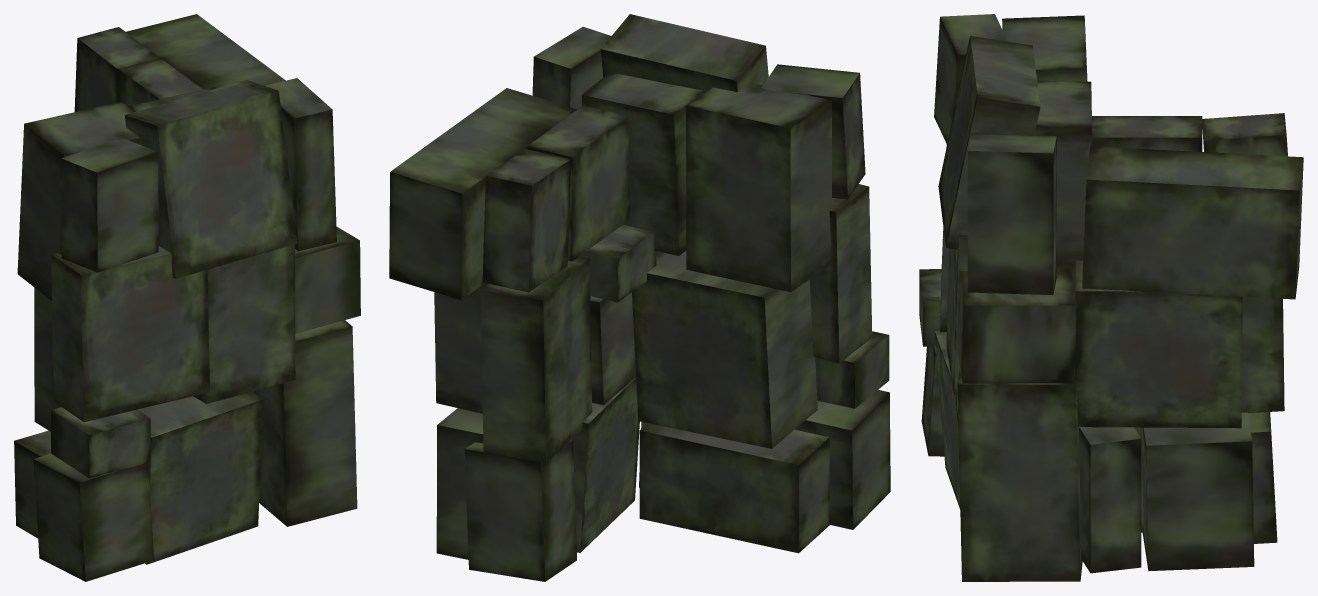
Rendered from ruin-corner-01.fbx.
3 views of the same model, side by side, from view 1: azimuth 30°, elevation 25°; view 2: azimuth 150°, elevation 25°; view 3: azimuth 270°, elevation 25° (orthographic). The views are drawn at different scales.
Visible parts, largest first — view 1: corner_01; view 2: corner_01; view 3: corner_01.
Boxes of the visible parts, x1,y1,x2,y2 form: corner_01: [14, 14, 360, 581]; corner_01: [389, 14, 890, 581]; corner_01: [919, 14, 1303, 581].
Bounding box in the file's own units: 325 × 442 × 341.
